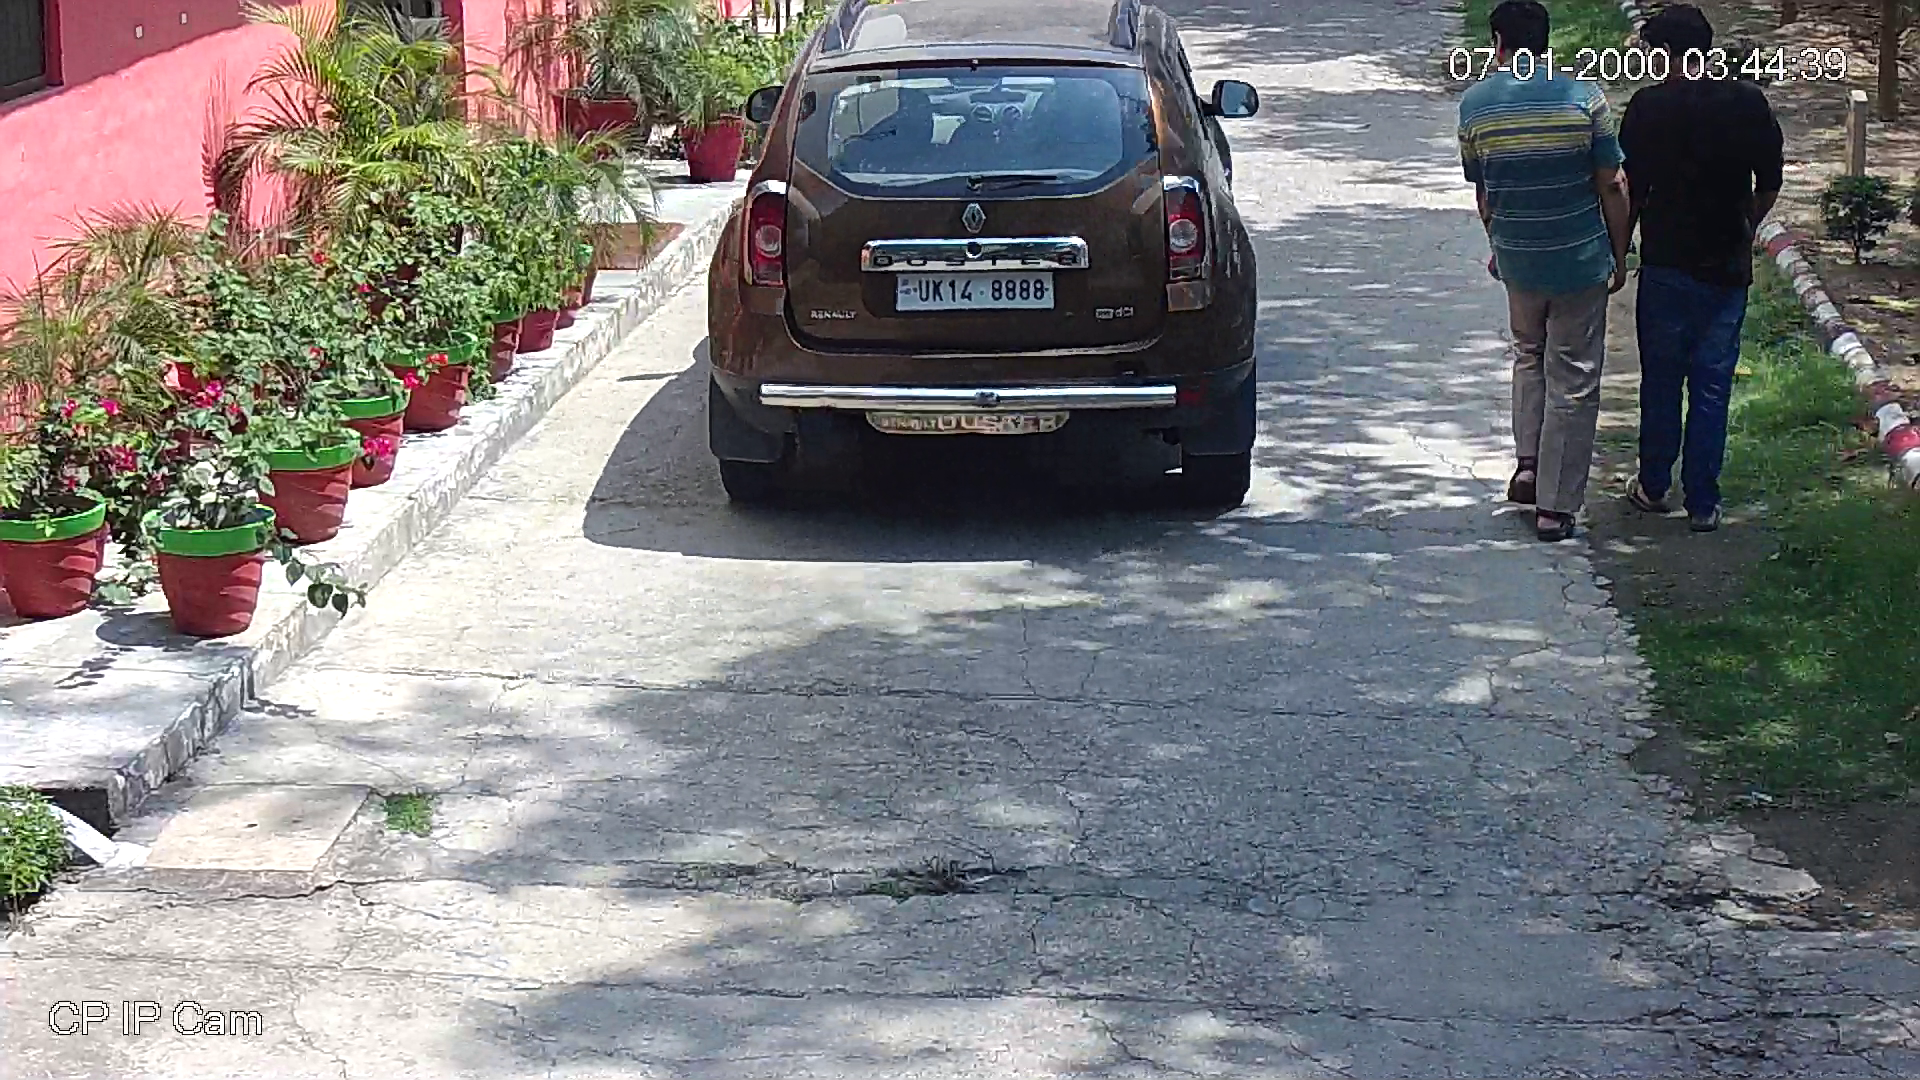plate: (896, 270, 1052, 311)
